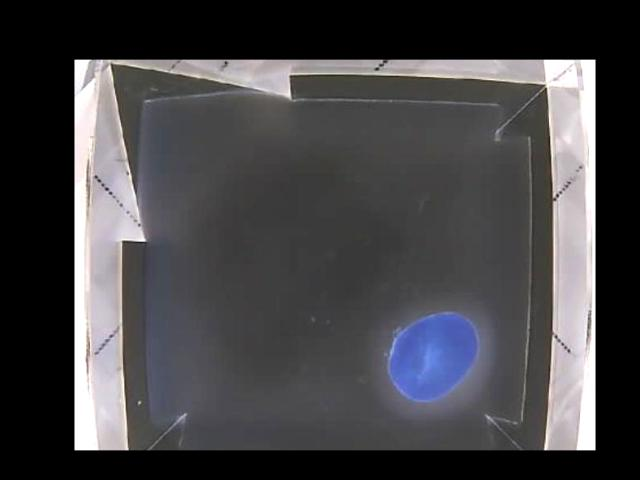Potato: (387, 311, 478, 399)
